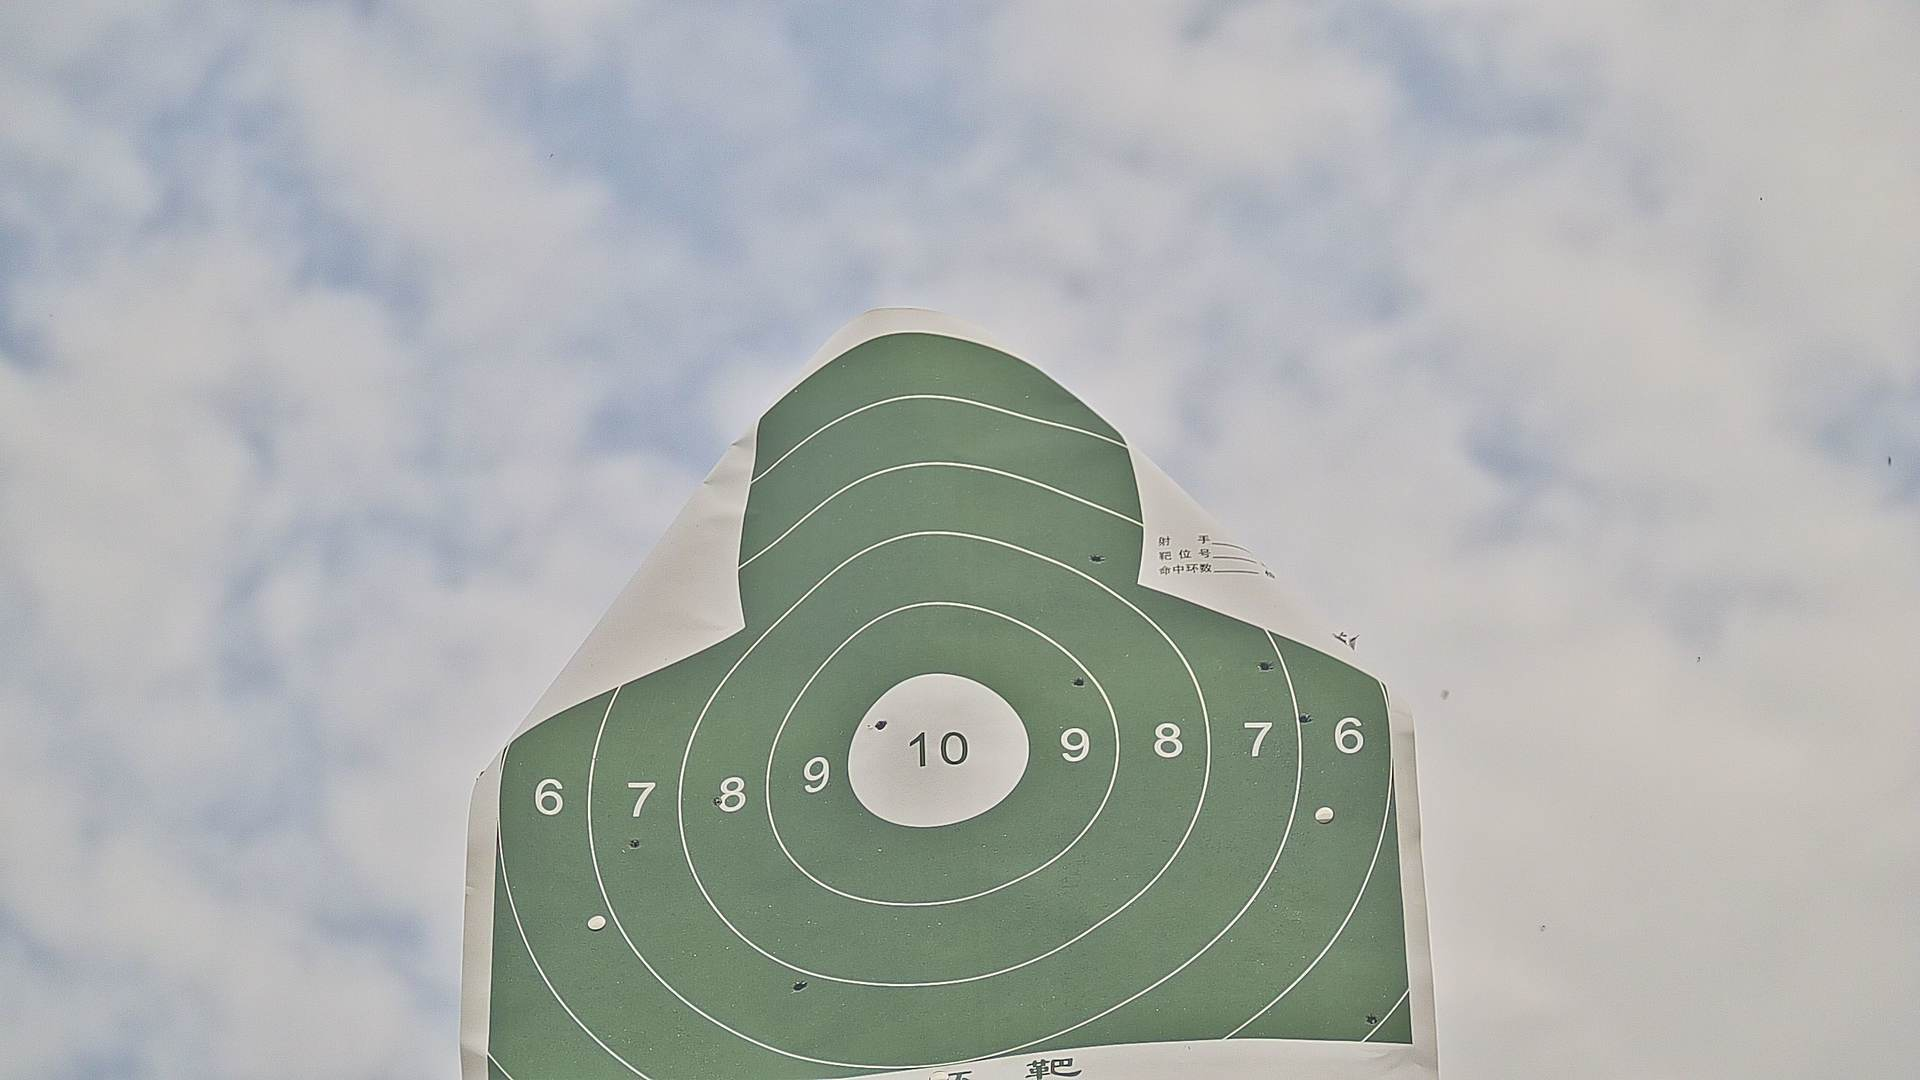hole: (790, 980, 807, 993), (1298, 712, 1312, 727), (1075, 673, 1088, 688), (1088, 553, 1102, 564), (629, 837, 641, 851), (876, 719, 887, 729), (1261, 659, 1270, 673), (1367, 1013, 1377, 1025), (713, 796, 723, 806)
kernel: (928, 748, 938, 752)
target: (487, 334, 1415, 1080)
ten: (844, 673, 1033, 825)
